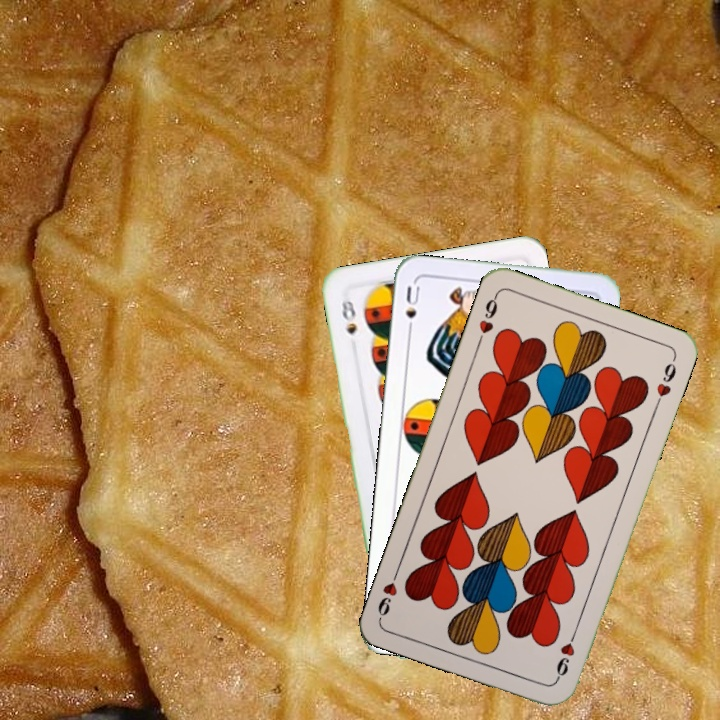H9: (551, 626, 580, 683), (473, 290, 501, 347)
S8: (338, 296, 359, 338)
SU: (402, 282, 422, 339)
